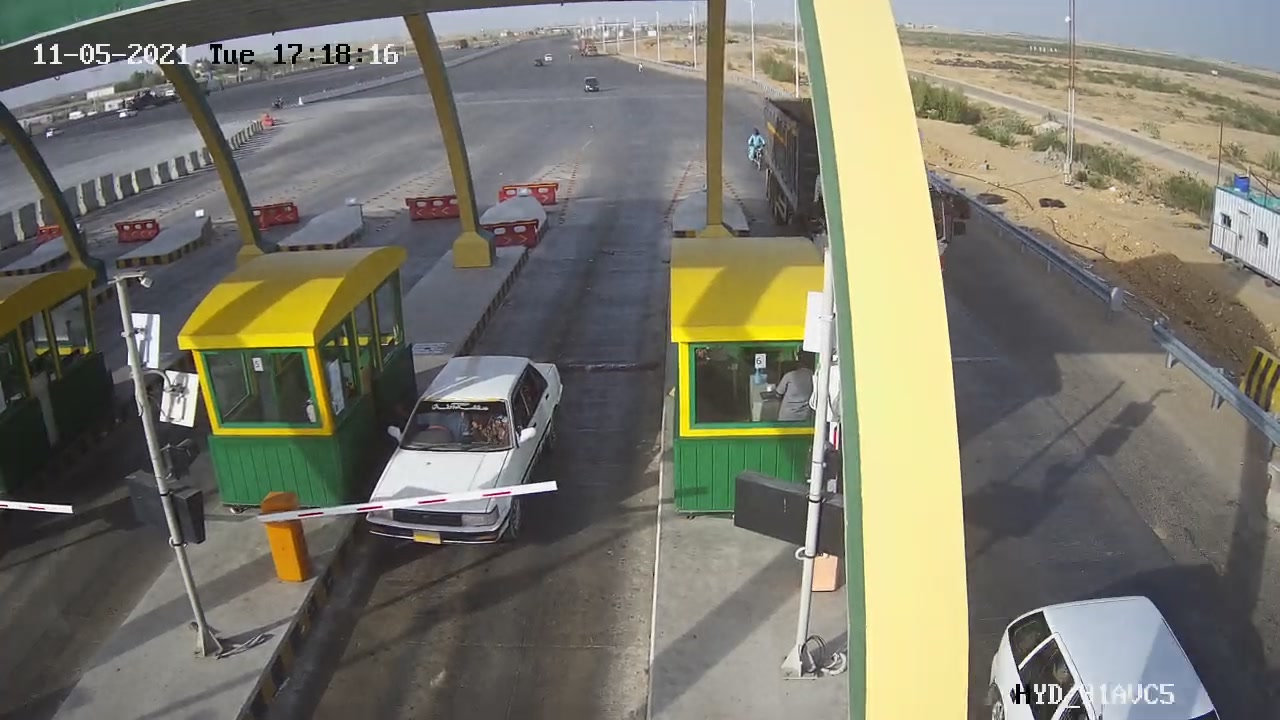F1: (355, 339, 579, 564)
